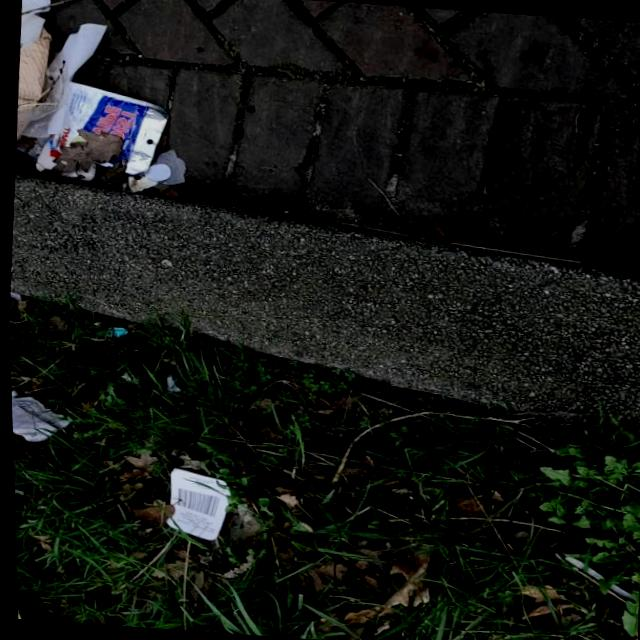Paper: (149, 462, 232, 544)
